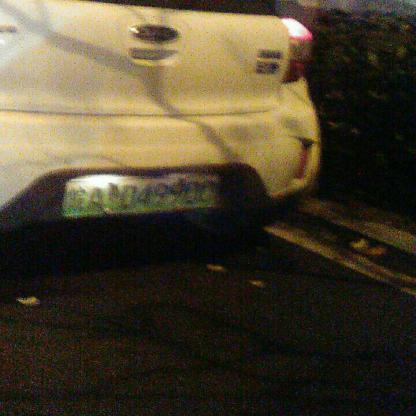lp: (65, 171, 219, 217)
